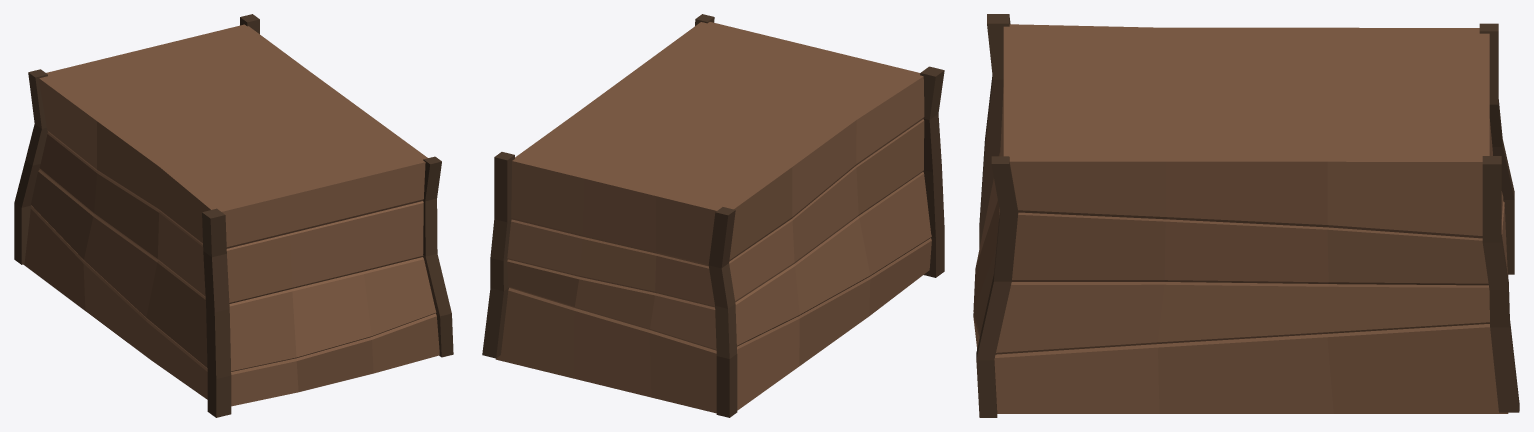
The model's file is Shop_RDC.fbx.
The picture shows the model from 3 angles, left to right: view 1: azimuth 30°, elevation 25°; view 2: azimuth 150°, elevation 25°; view 3: azimuth 270°, elevation 25°; orthographic projection. The views are drawn at different scales.
Parts seen in each view (by area): view 1: Cube.069; view 2: Cube.069; view 3: Cube.069.
Boxes of the visible parts, x1=… form: Cube.069: x1=14, y1=14, x2=453, y2=417; Cube.069: x1=482, y1=14, x2=944, y2=417; Cube.069: x1=973, y1=14, x2=1519, y2=417.
Size of the model in its own units: 338 by 264 by 501.
